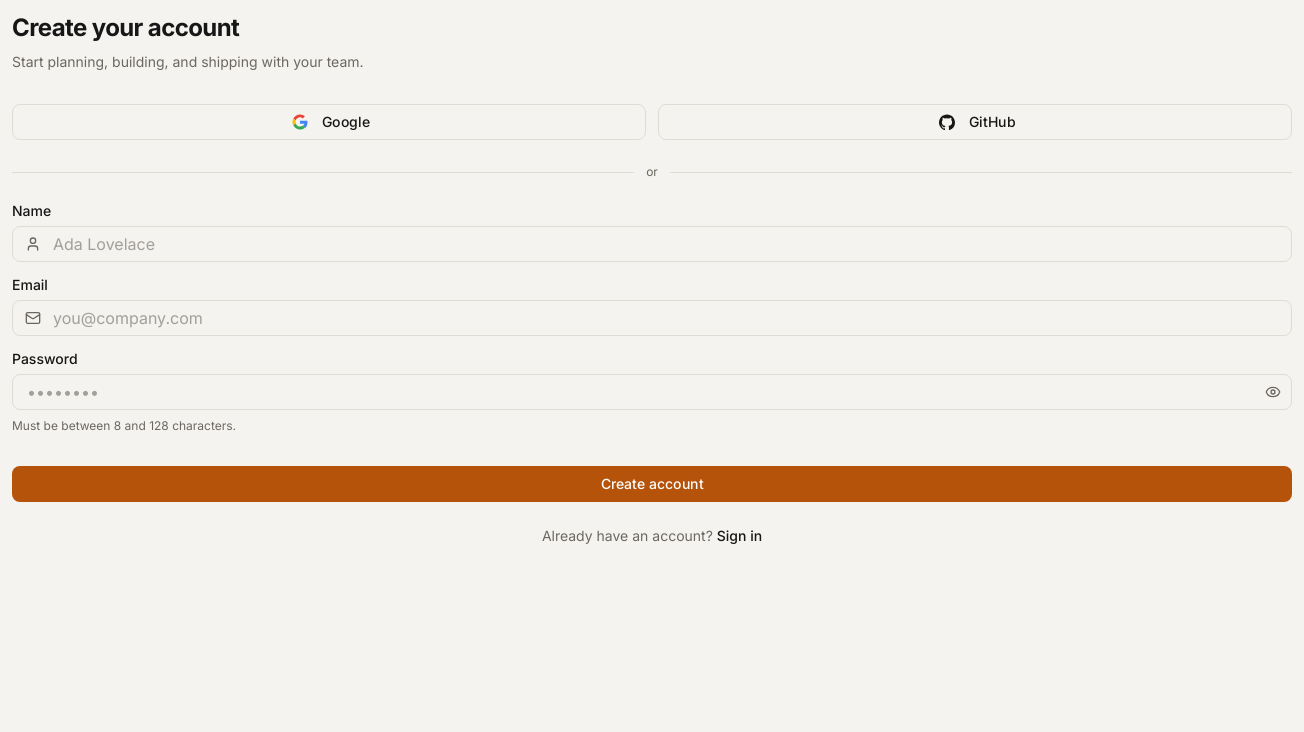
Test: SignUpForm — user behaviour (isolated) › validates password minimum length
The image size is (1304, 732).
Step 1. Type "Ada" into the field labelled "Name" → (652, 244), box [13,227,1291,261]
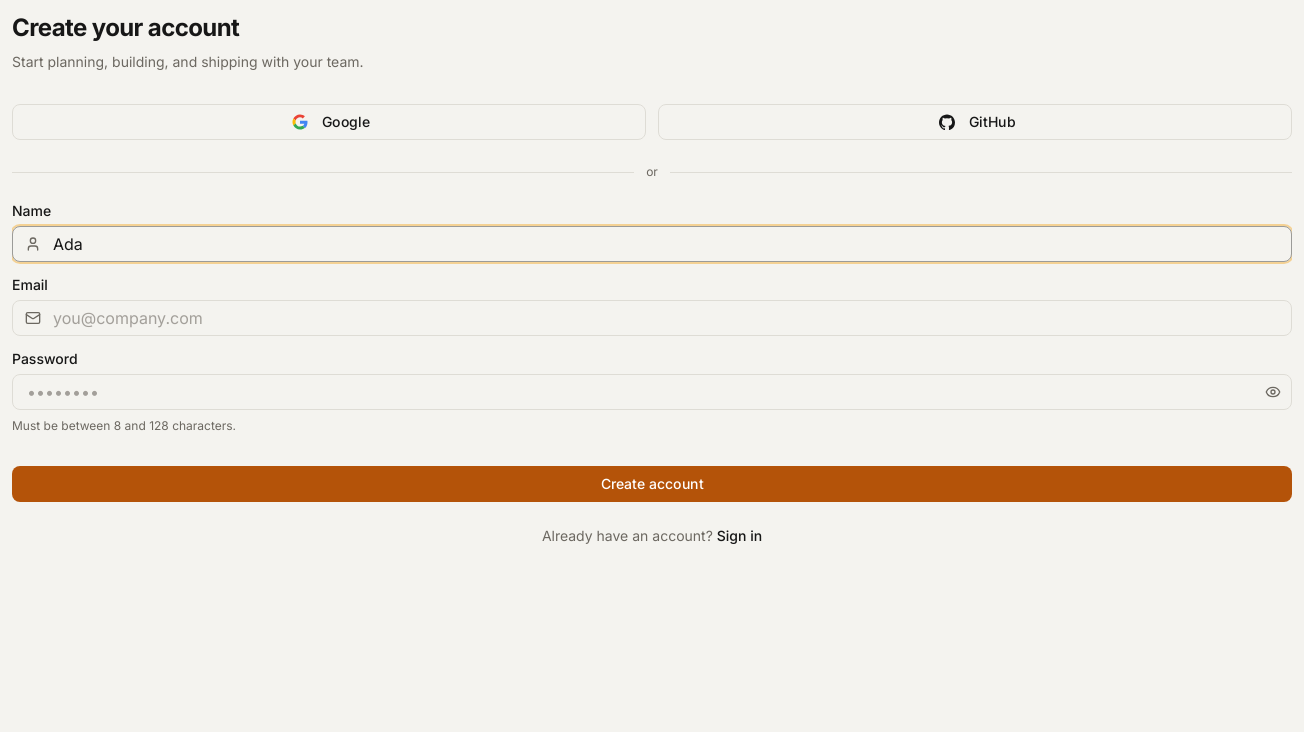
Step 2. Type "ada@example.com" into the field labelled "Email" → (652, 318), box [13,301,1291,335]
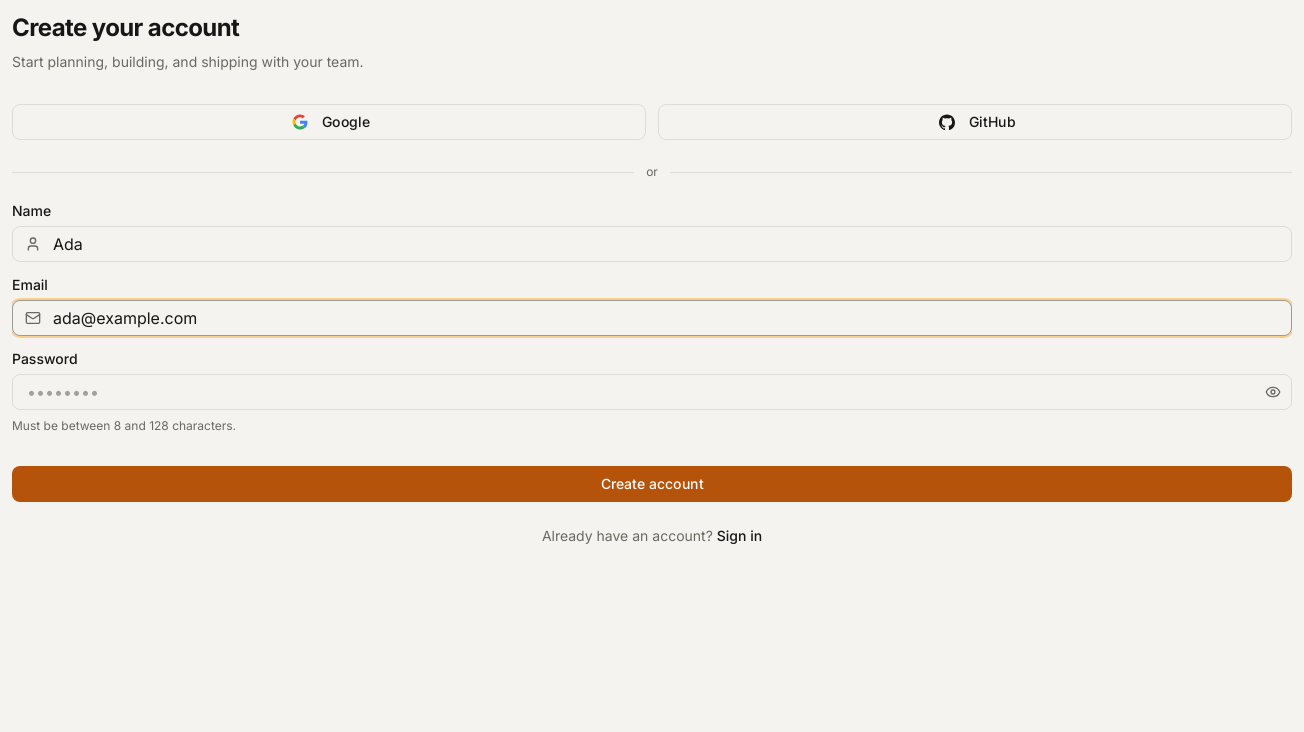
Step 3. Type "short" into the password field labelled "Password" → (652, 392), box [13,375,1291,409]
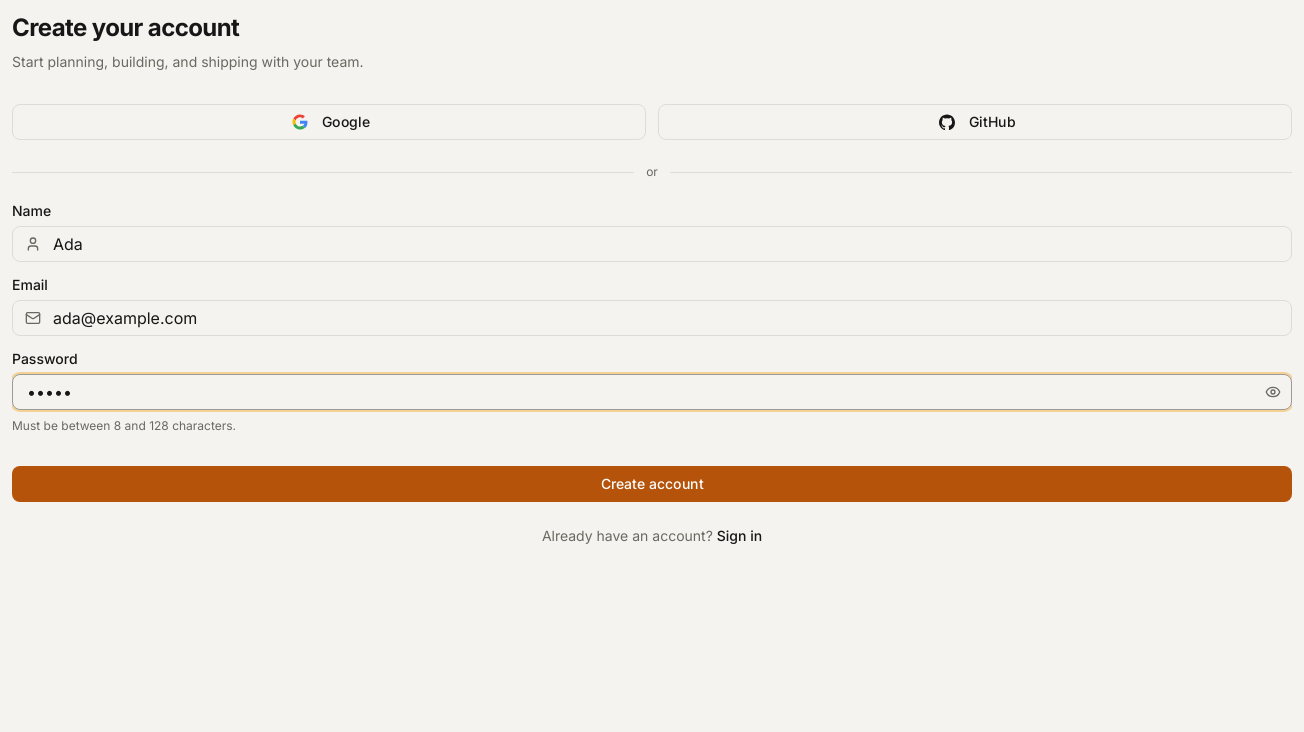
Step 4. Click the button named "create account" → (652, 484), box [12,466,1292,502]
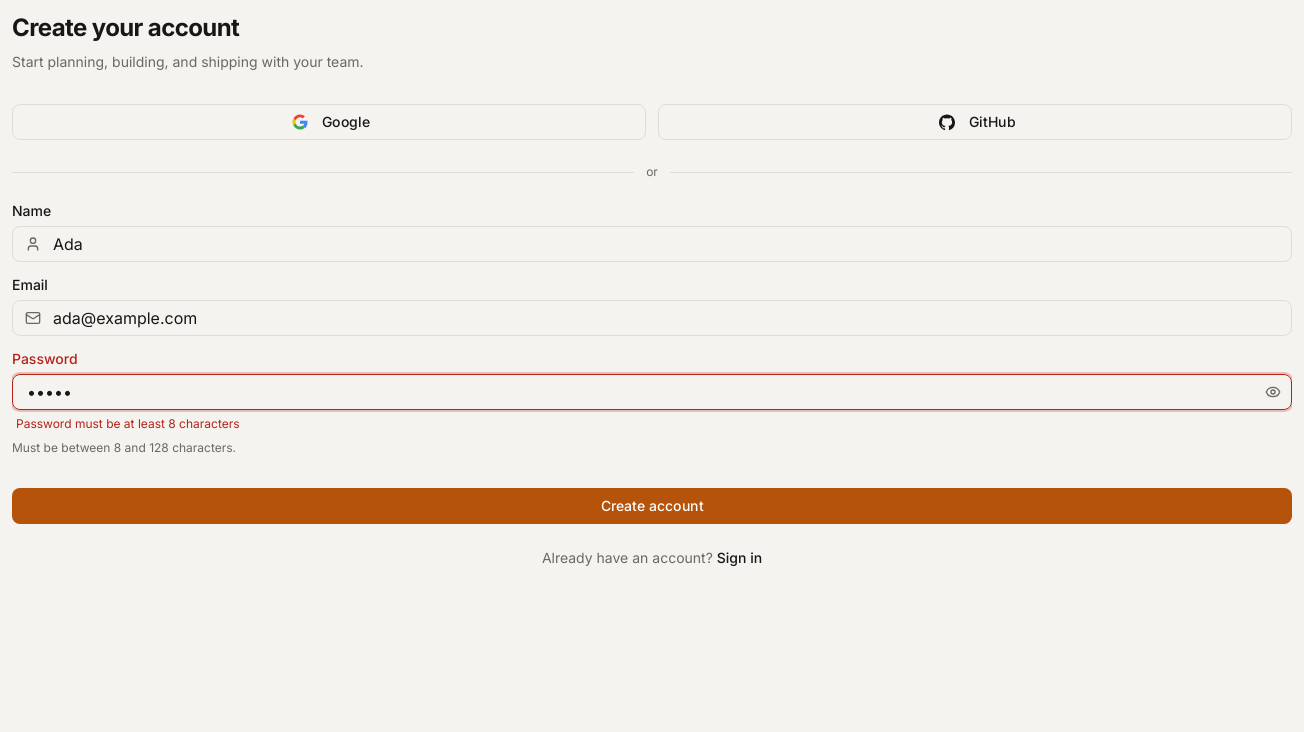
Expected: the text "Password must be at least 8 characters" is shown, [16,416,240,431]
